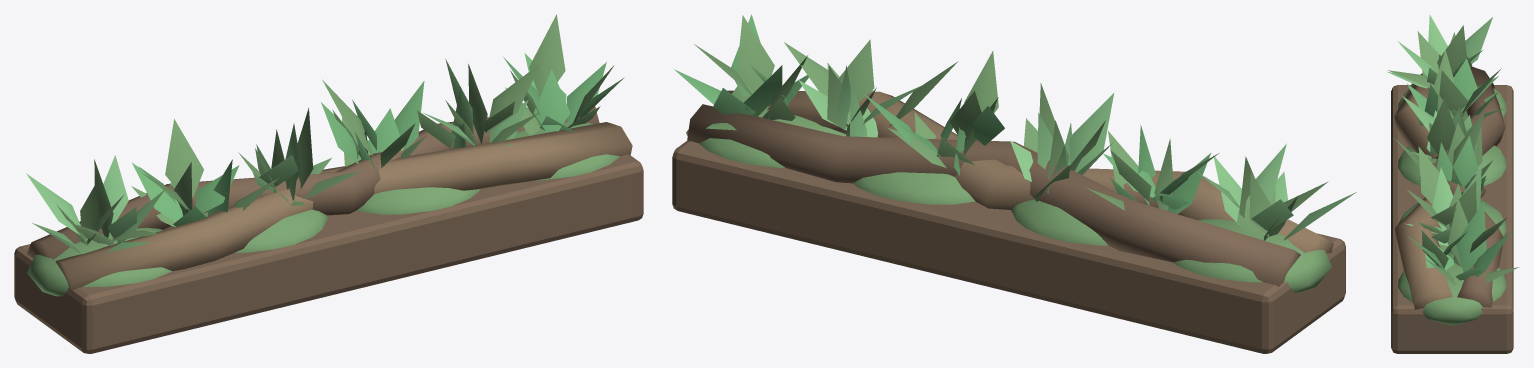
Rendered from low_wall_woodland.glb.
3 views of the same model, side by side, from view 1: azimuth 30°, elevation 25°; view 2: azimuth 150°, elevation 25°; view 3: azimuth 270°, elevation 25° (orthographic). The views are drawn at different scales.
Visible parts, largest first — view 1: RootCurbBank, CreepingRootA, CreepingRootB, LowShrub_1, LowShrub_5, LowShrub_0, LowShrub_4, LowShrub_3, LowShrub_2, BankMoss_0, BankMoss_2, BankMoss_1 (+1 smaller); view 2: RootCurbBank, CreepingRootB, CreepingRootA, LowShrub_5, LowShrub_4, LowShrub_0, LowShrub_3, LowShrub_2, LowShrub_1, BankMoss_0, BankMoss_2, BankMoss_1 (+1 smaller); view 3: RootCurbBank, CreepingRootA, LowShrub_5, CreepingRootB, LowShrub_4, LowShrub_0, LowShrub_1, BankMoss_3, LowShrub_3, LowShrub_2, BankMoss_1, BankMoss_2 (+1 smaller).
Boxes of the visible parts, bbox=[...] form: RootCurbBank: bbox=[14, 154, 643, 353]; CreepingRootA: bbox=[55, 122, 632, 291]; CreepingRootB: bbox=[27, 106, 599, 259]; LowShrub_1: bbox=[131, 119, 279, 227]; LowShrub_5: bbox=[503, 14, 624, 135]; LowShrub_0: bbox=[26, 155, 165, 253]; LowShrub_4: bbox=[417, 59, 540, 148]; LowShrub_3: bbox=[321, 79, 426, 174]; LowShrub_2: bbox=[238, 107, 362, 205]; BankMoss_0: bbox=[27, 227, 171, 296]; BankMoss_2: bbox=[356, 187, 479, 214]; BankMoss_1: bbox=[172, 209, 327, 252]; RootCurbBank: bbox=[672, 141, 1345, 353]; CreepingRootB: bbox=[687, 104, 1300, 286]; CreepingRootA: bbox=[727, 90, 1333, 253]; LowShrub_5: bbox=[674, 14, 808, 130]; LowShrub_4: bbox=[784, 39, 958, 137]; LowShrub_0: bbox=[1197, 143, 1356, 240]; LowShrub_3: bbox=[864, 51, 1004, 175]; LowShrub_2: bbox=[1010, 83, 1114, 201]; LowShrub_1: bbox=[1087, 124, 1218, 216]; BankMoss_0: bbox=[1173, 219, 1331, 292]; BankMoss_2: bbox=[853, 172, 975, 204]; BankMoss_1: bbox=[1011, 199, 1108, 245]; RootCurbBank: bbox=[1391, 85, 1513, 353]; CreepingRootA: bbox=[1394, 73, 1486, 309]; LowShrub_5: bbox=[1408, 198, 1519, 285]; CreepingRootB: bbox=[1419, 66, 1505, 307]; LowShrub_4: bbox=[1405, 146, 1481, 245]; LowShrub_0: bbox=[1387, 14, 1492, 88]; LowShrub_1: bbox=[1407, 49, 1504, 125]; BankMoss_3: bbox=[1398, 251, 1506, 325]; LowShrub_3: bbox=[1394, 112, 1492, 194]; LowShrub_2: bbox=[1402, 94, 1482, 166]; BankMoss_1: bbox=[1398, 145, 1506, 185]; BankMoss_2: bbox=[1398, 199, 1506, 251].
Size of the model in its own units: 2.06 by 0.54 by 0.4766.
